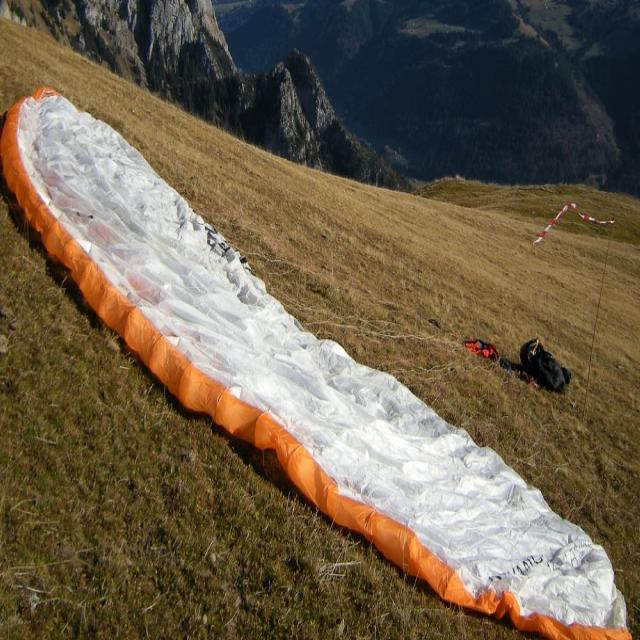paraglider: (1, 83, 632, 638)
